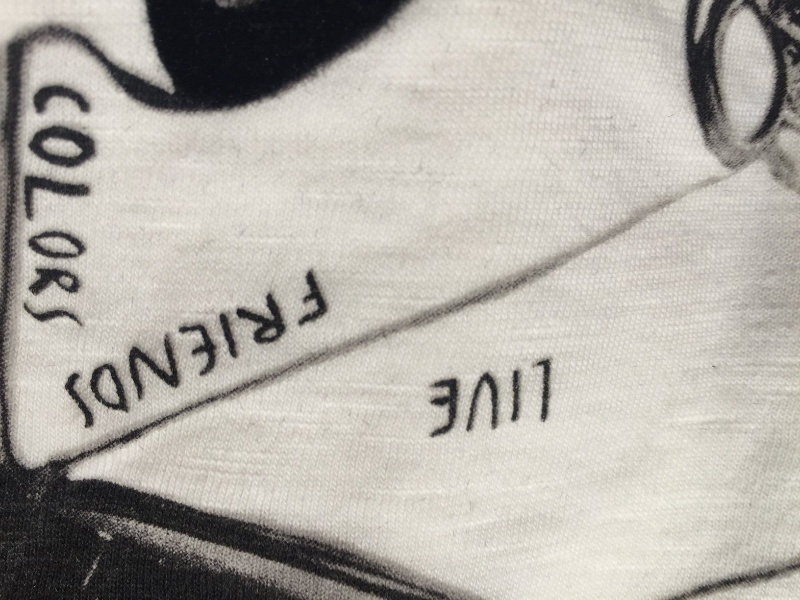text: (33, 81, 48, 334), (49, 81, 64, 334), (65, 81, 80, 334), (81, 81, 96, 334), (65, 261, 80, 437), (81, 261, 96, 437), (97, 261, 112, 437), (113, 261, 128, 437), (129, 261, 144, 437), (145, 261, 160, 437), (161, 261, 176, 437), (177, 261, 192, 437), (193, 261, 208, 437), (209, 261, 224, 437), (225, 261, 240, 437), (241, 261, 256, 437), (257, 261, 272, 437), (273, 261, 288, 437), (289, 261, 304, 437), (305, 261, 320, 437), (321, 261, 335, 437), (433, 351, 448, 442), (449, 351, 464, 442), (465, 351, 480, 442), (481, 351, 496, 442), (497, 351, 512, 442), (513, 351, 528, 442), (529, 351, 544, 442), (545, 351, 559, 442), (27, 81, 32, 334), (58, 261, 64, 437), (424, 351, 432, 442), (97, 81, 99, 334)
